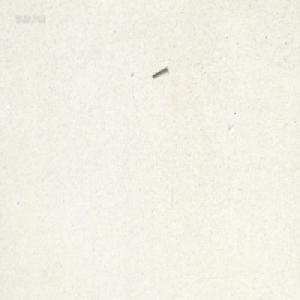Bolt: (151, 67, 167, 79)
